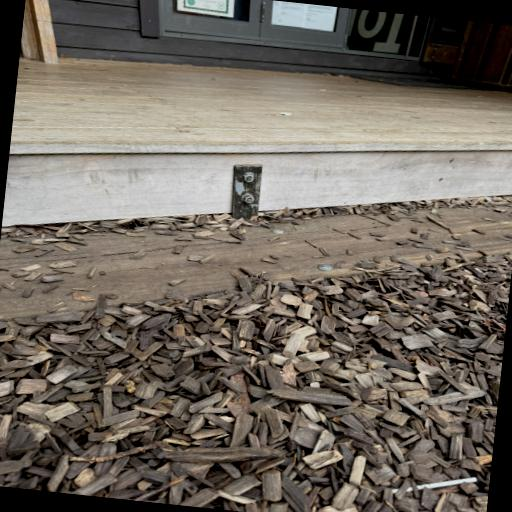step: (0, 143, 512, 342)
